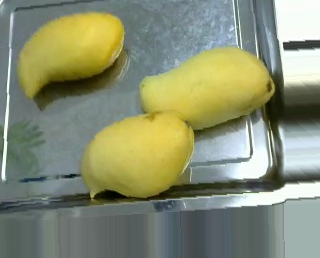Mango: (138, 48, 274, 128), (76, 114, 198, 202), (15, 12, 127, 97)
